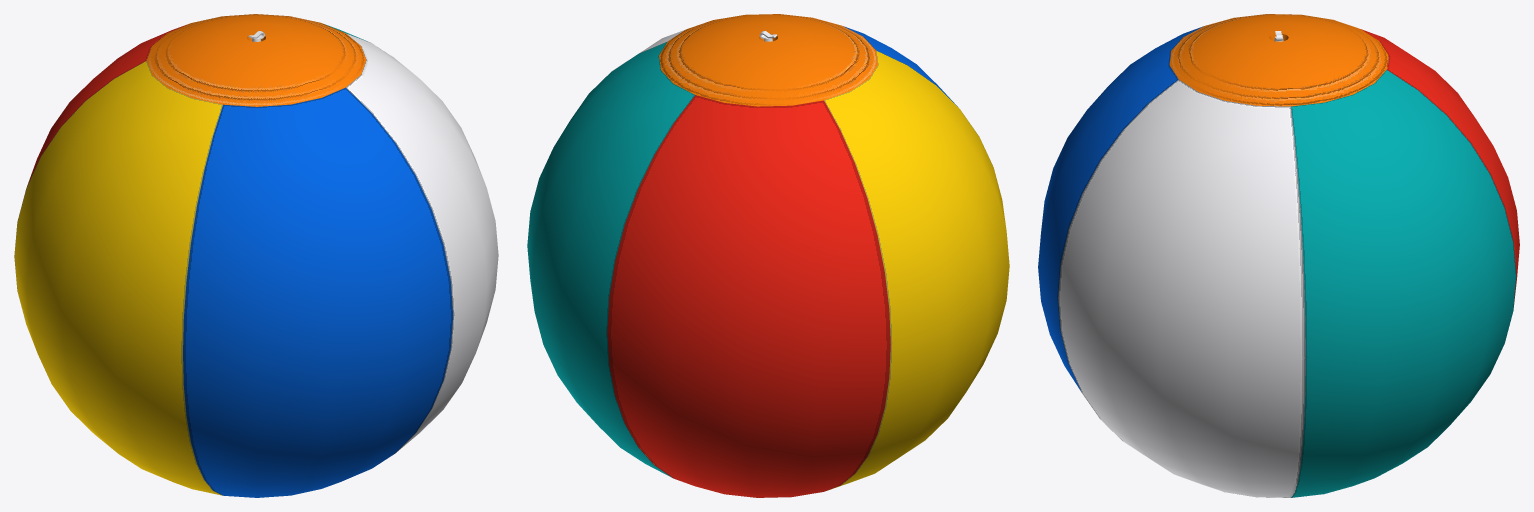
Rendered from Ball1.gltf.
3 views of the same model, side by side, from view 1: azimuth 30°, elevation 25°; view 2: azimuth 150°, elevation 25°; view 3: azimuth 270°, elevation 25° (orthographic).
Visible parts, largest first — view 1: node_id37; view 2: node_id37; view 3: node_id37.
Boxes of the visible parts, bbox=[...] form: node_id37: bbox=[14, 14, 498, 497]; node_id37: bbox=[527, 14, 1009, 497]; node_id37: bbox=[1038, 14, 1519, 497].
Bounding box in the file's own units: 0.875 × 0.8872 × 0.875.
Materials: 1 (1 with a texture image).
